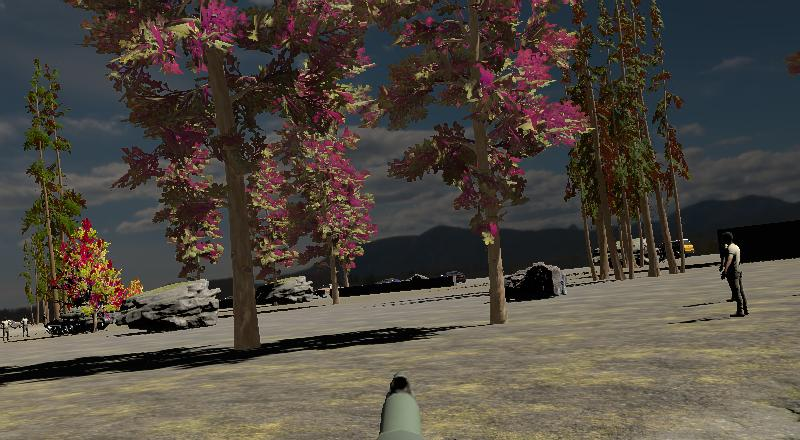Human: (718, 229, 753, 317)
Tank: (45, 305, 102, 338)
car: (667, 236, 696, 260)
